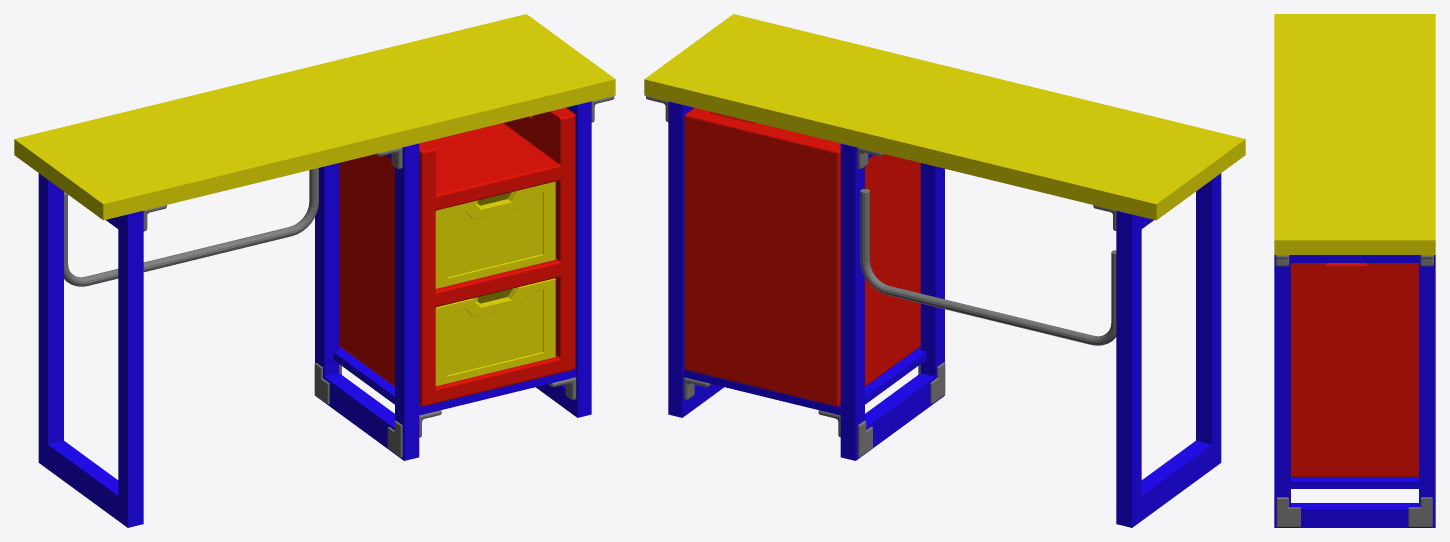
The model's file is desk1.fbx.
3 views of the same model, side by side, from view 1: azimuth 30°, elevation 25°; view 2: azimuth 150°, elevation 25°; view 3: azimuth 270°, elevation 25° (orthographic). The views are drawn at different scales.
Parts seen in each view (by area): view 1: Cube.003, Cube, Cube.002, Cube.001, Circle.001, Cube.004; view 2: Cube.003, Cube, Circle.001, Cube.004; view 3: Cube.003, Cube, Cube.004, Cube.015, Cube.019.
Part boxes in pixels (x1,y1,x2,y2): Cube.003: (14, 14, 615, 527); Cube: (339, 107, 575, 406); Cube.002: (435, 278, 555, 386); Cube.001: (435, 181, 555, 288); Circle.001: (64, 168, 318, 286); Cube.004: (333, 346, 576, 415); Cube.003: (644, 14, 1245, 527); Cube: (684, 108, 920, 406); Circle.001: (860, 189, 1116, 345); Cube.004: (683, 346, 926, 415); Cube.003: (1274, 14, 1435, 527); Cube: (1291, 263, 1418, 476); Cube.004: (1291, 477, 1418, 488); Cube.015: (1276, 497, 1300, 526); Cube.019: (1408, 497, 1432, 526).
Bounding box in the file's own units: 245 × 151 × 73.9.
